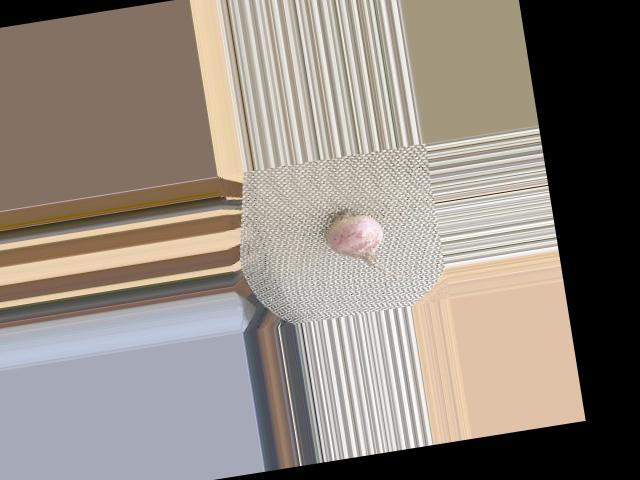beet: (321, 199, 415, 291)
